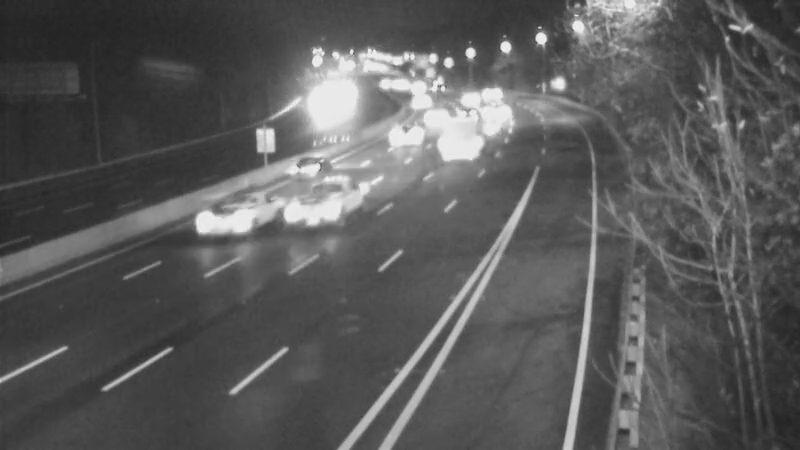vehicle: (265, 129, 345, 209), (286, 169, 366, 249), (199, 171, 279, 251), (392, 78, 442, 128), (467, 82, 517, 132), (414, 89, 464, 139), (468, 98, 518, 148), (382, 109, 432, 159), (427, 118, 477, 168)
